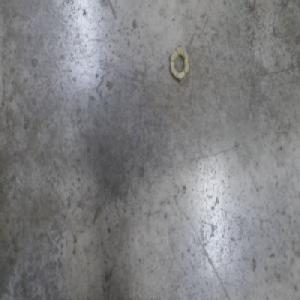Nut: (169, 40, 190, 81)
